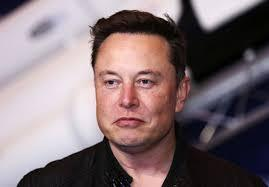Persons: (86, 5, 190, 155)
